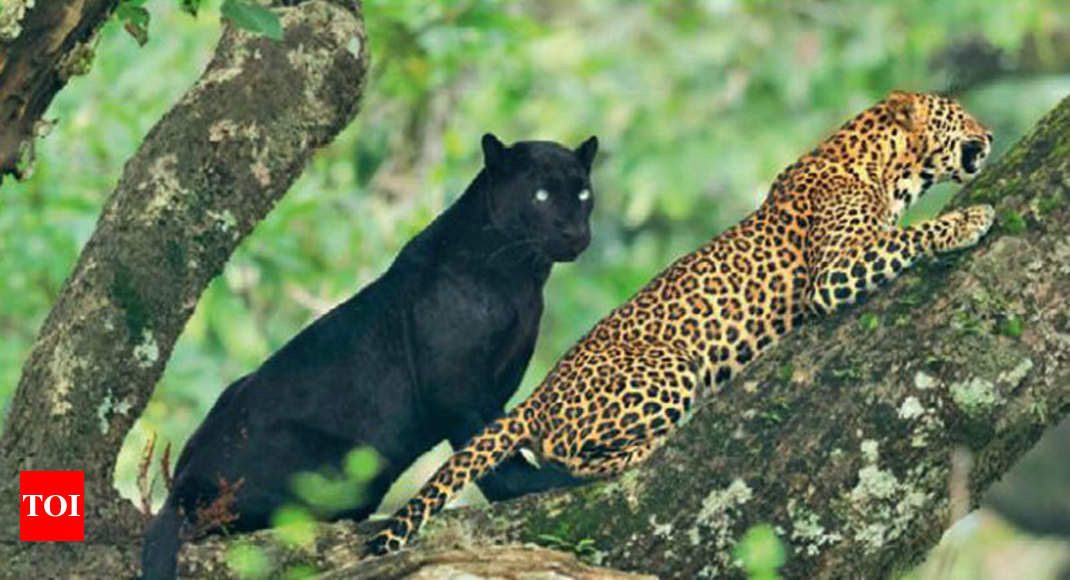leopard: (367, 94, 995, 565)
panther: (139, 130, 609, 580)
